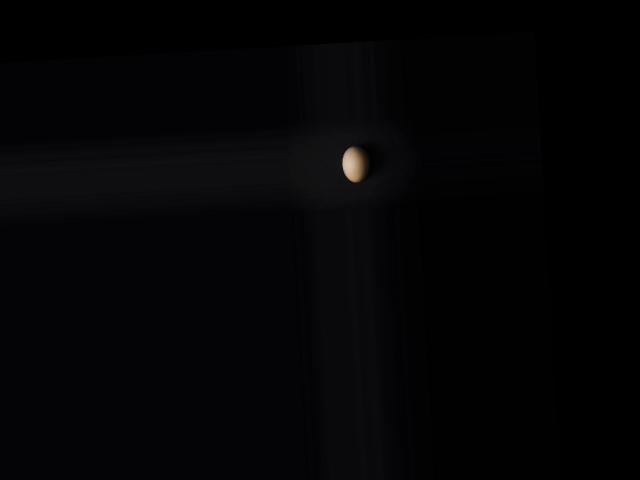egg: (340, 144, 369, 184)
